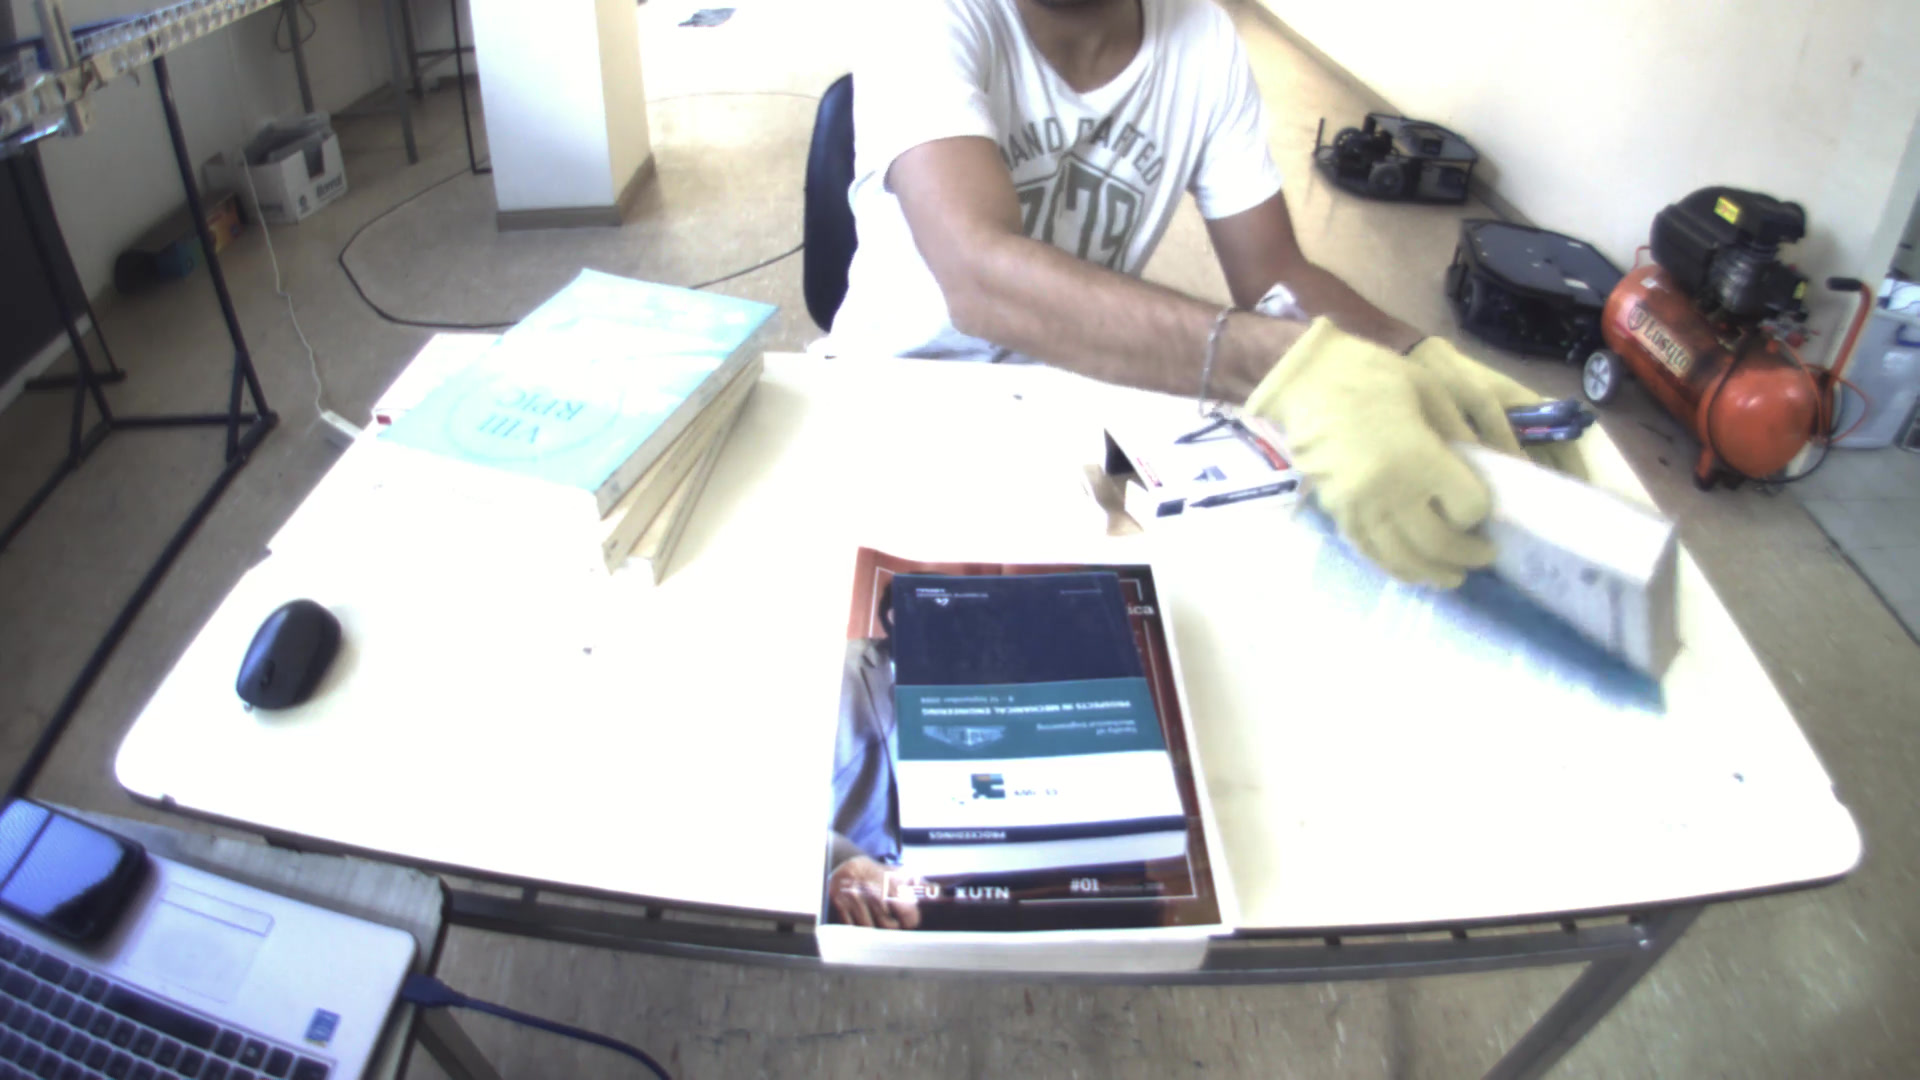hand: (1242, 306, 1468, 599), (1408, 330, 1611, 493)
